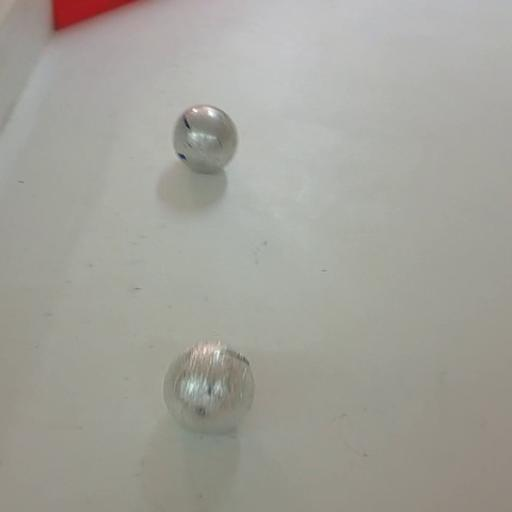alive: (162, 340, 256, 434), (173, 104, 240, 174)
